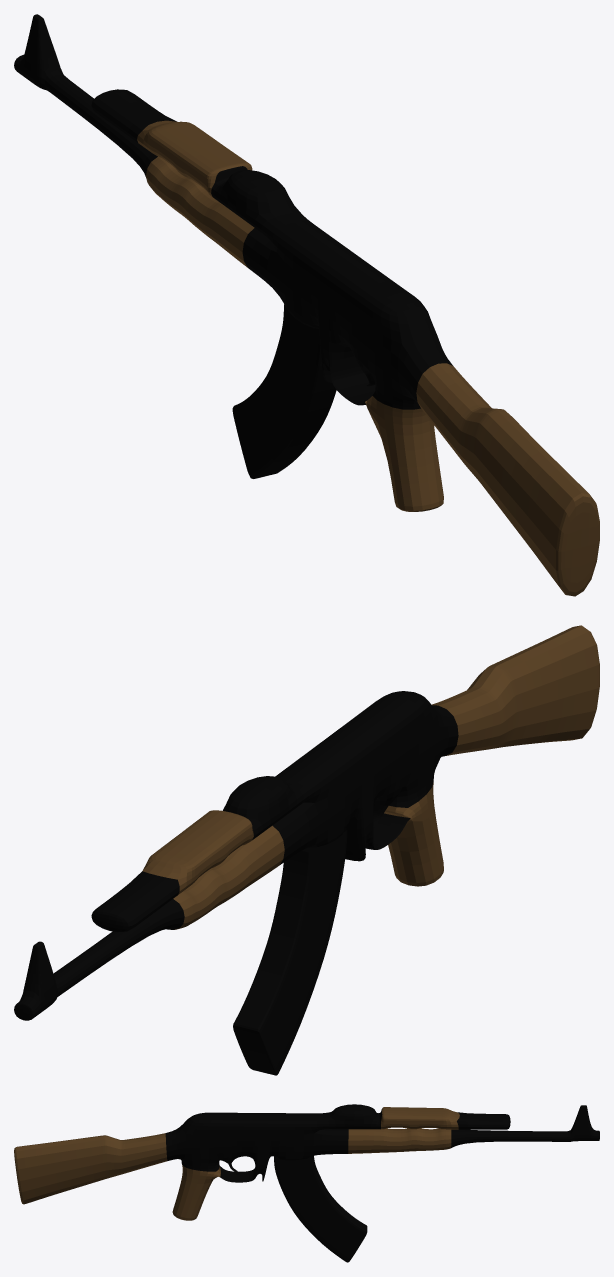
3 renders of one model, top to bottom at view 1: azimuth 30°, elevation 25°; view 2: azimuth 150°, elevation 25°; view 3: azimuth 270°, elevation 25°, orthographic. The views are drawn at different scales.
Visible parts, largest first — view 1: Cube, Cube.002; view 2: Cube, Cube.002; view 3: Cube, Cube.002.
Boxes of the visible parts, box(x1,y1,x2,y2) form: Cube: box(14, 14, 599, 596); Cube.002: box(232, 304, 336, 478); Cube: box(14, 625, 599, 1020); Cube.002: box(233, 828, 347, 1075); Cube: box(14, 1104, 599, 1220); Cube.002: box(274, 1156, 367, 1262).
Size of the model in its own units: 44.43 by 277 by 957.
